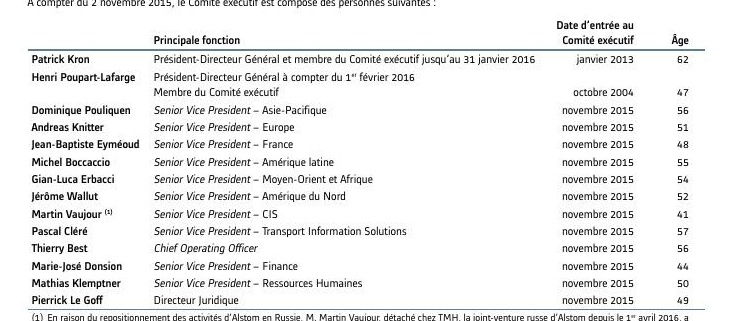table: (0, 0, 733, 321)
